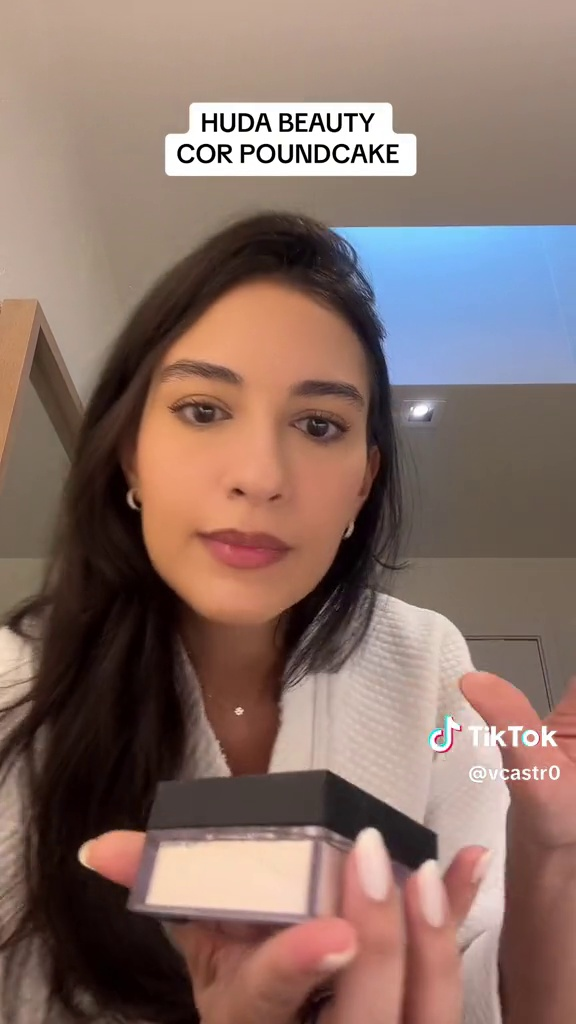train' :'yolo_data/train/images',: (117, 763, 453, 939)
